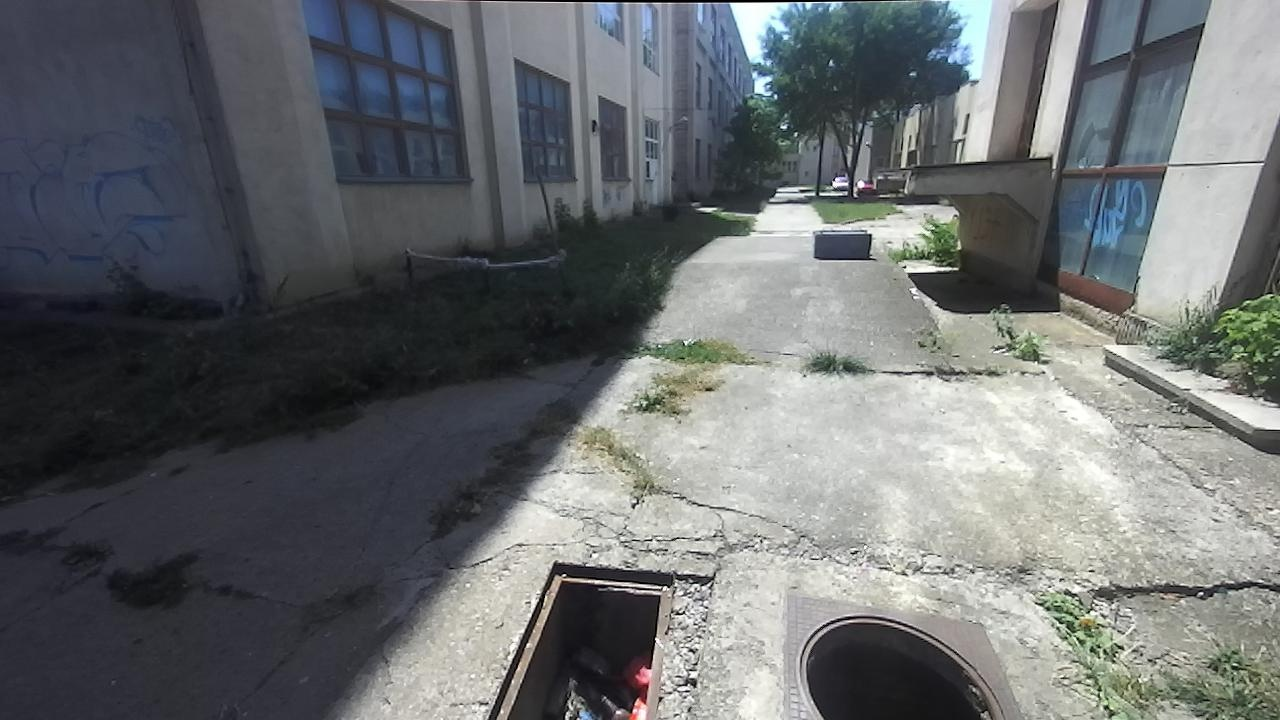drain: (479, 562, 680, 720), (792, 603, 1004, 719)
